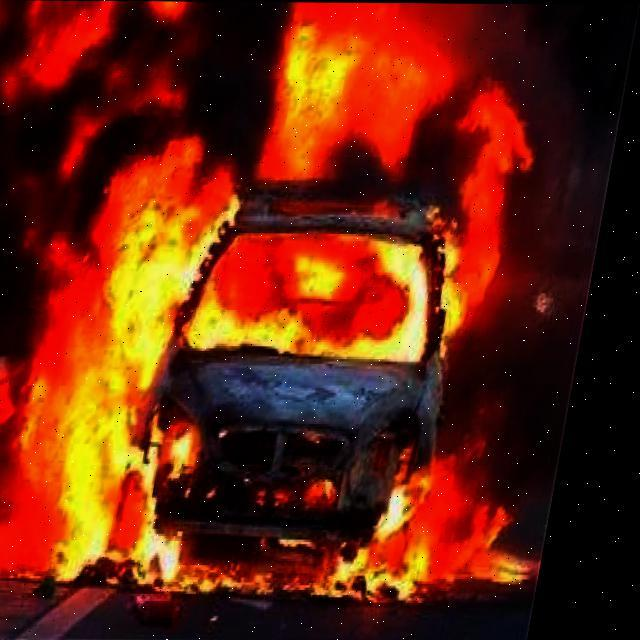Fire: (0, 10, 616, 600)
